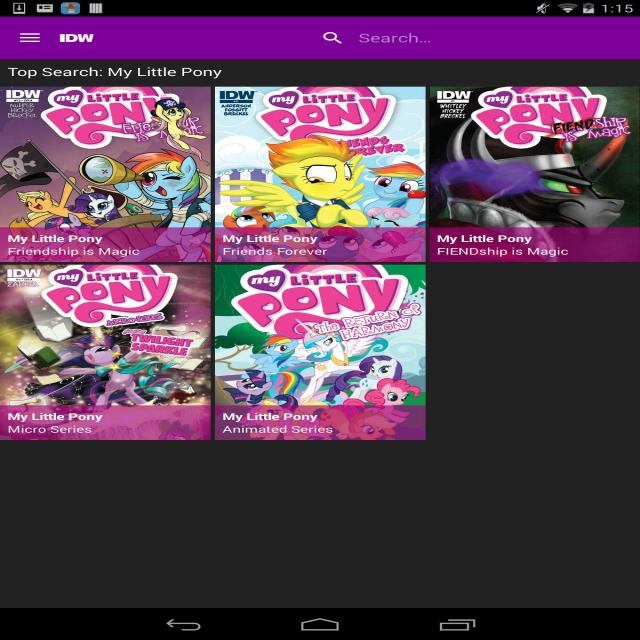button: (16, 28, 43, 46), (320, 28, 346, 46)
field: (317, 23, 640, 49)
heading: (58, 30, 95, 47)
image: (0, 87, 212, 264), (215, 87, 426, 262), (427, 87, 640, 260), (213, 264, 421, 440), (1, 266, 210, 439)
label: (355, 29, 436, 45)
text: (3, 230, 142, 258), (434, 232, 570, 260), (218, 409, 332, 436), (218, 233, 330, 258), (5, 410, 106, 437)
